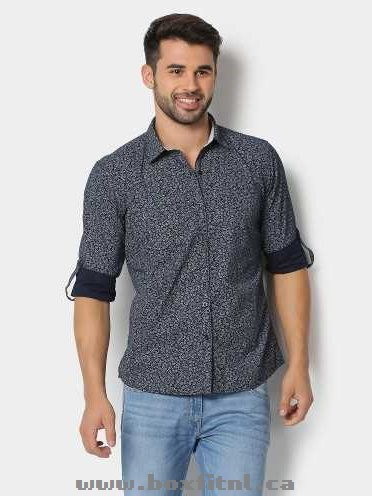NOTSAFE: (119, 12, 277, 393)
